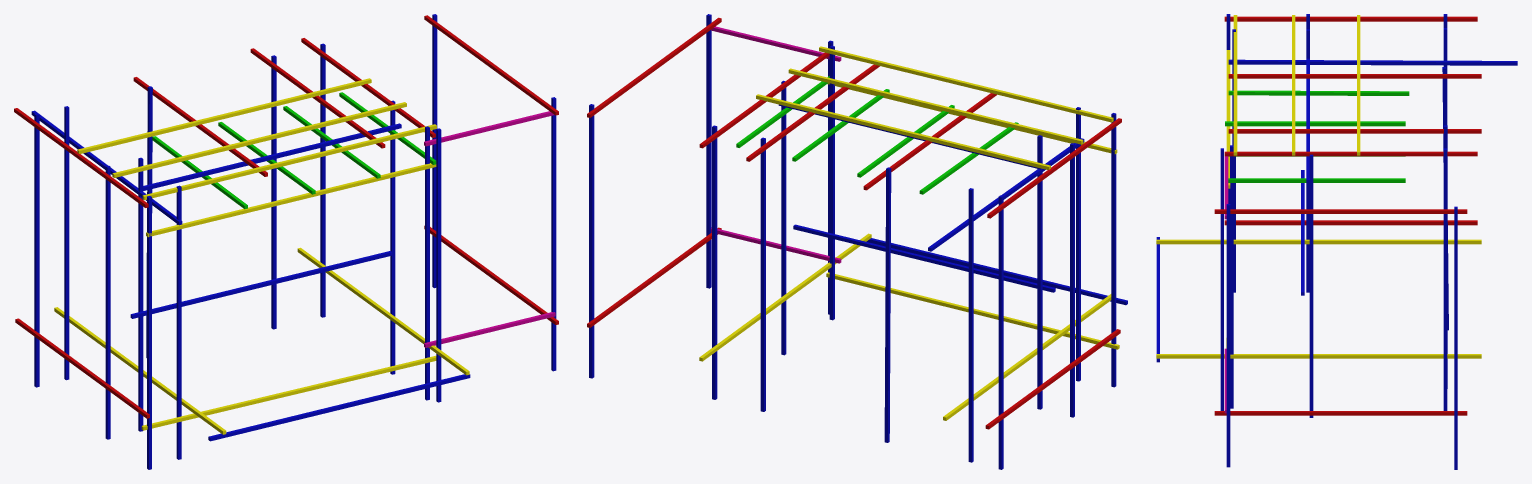
File: saved.obj
3 renders of one model, left to right at view 1: azimuth 30°, elevation 25°; view 2: azimuth 150°, elevation 25°; view 3: azimuth 270°, elevation 25°, orthographic. The views are drawn at different scales.
Visible parts, largest first — view 1: 立方体.050_立方体.096, 立方体.060_立方体.105, 立方体.051_立方体.097, 立方体.053_立方体.098, 立方体.054_立方体.099, 立方体.036_立方体.067, 立方体.037_立方体.068, 立方体.044_立方体.075, 立方体.043_立方体.074, 立方体.040_立方体.071, 立方体.023_立方体.053, 立方体.048_立方体.079 (+25 smaller); view 2: 立方体.050_立方体.096, 立方体.051_立方体.097, 立方体.060_立方体.105, 立方体.044_立方体.075, 立方体.035_立方体.066, 立方体.061_立方体.106, 立方体.047_立方体.078, 立方体.037_立方体.068, 立方体.046_立方体.077, 立方体.023_立方体.053, 立方体.034_立方体.065, 立方体.024_立方体.054 (+24 smaller); view 3: 立方体.049_立方体.095, 立方体.052_立方体.084, 立方体.019_立方体.047, 立方体.022_立方体.051, 立方体.059_立方体.104, 立方体.020_立方体.049, 立方体.023_立方体.053, 立方体.046_立方体.077, 立方体.026_立方体.059, 立方体.021_立方体.050, 立方体.064_立方体.109, 立方体.062_立方体.107 (+17 smaller).
Boxes of the visible parts, <box> form: 立方体.050_立方体.096: <box>112,102,406,177</box>; 立方体.060_立方体.105: <box>77,78,371,153</box>; 立方体.051_立方体.097: <box>142,124,436,200</box>; 立方体.053_立方体.098: <box>141,355,436,430</box>; 立方体.054_立方体.099: <box>146,163,436,237</box>; 立方体.036_立方体.067: <box>436,128,441,402</box>; 立方体.037_立方体.068: <box>34,113,39,387</box>; 立方体.044_立方体.075: <box>64,106,69,380</box>; 立方体.043_立方体.074: <box>105,165,110,439</box>; 立方体.040_立方体.071: <box>176,185,181,459</box>; 立方体.023_立方体.053: <box>551,97,556,371</box>; 立方体.048_立方体.079: <box>208,374,470,441</box>; 立方体.050_立方体.096: <box>788,68,1083,144</box>; 立方体.051_立方体.097: <box>819,46,1113,122</box>; 立方体.060_立方体.105: <box>756,94,1050,169</box>; 立方体.044_立方体.075: <box>968,188,973,462</box>; 立方体.035_立方体.066: <box>760,137,765,411</box>; 立方体.061_立方体.106: <box>884,167,891,442</box>; 立方体.047_立方体.078: <box>589,104,594,378</box>; 立方体.037_立方体.068: <box>998,195,1003,469</box>; 立方体.046_立方体.077: <box>712,125,717,399</box>; 立方体.023_立方体.053: <box>706,14,711,288</box>; 立方体.034_立方体.065: <box>1111,113,1116,387</box>; 立方体.024_立方体.054: <box>1037,135,1042,409</box>; 立方体.049_立方体.095: <box>1156,239,1481,244</box>; 立方体.052_立方体.084: <box>1156,354,1481,358</box>; 立方体.019_立方体.047: <box>1228,59,1517,65</box>; 立方体.022_立方体.051: <box>1224,151,1477,156</box>; 立方体.059_立方体.104: <box>1224,16,1477,21</box>; 立方体.020_立方体.049: <box>1224,220,1477,225</box>; 立方体.023_立方体.053: <box>1226,204,1230,467</box>; 立方体.046_立方体.077: <box>1443,148,1447,410</box>; 立方体.026_立方体.059: <box>1309,154,1313,417</box>; 立方体.021_立方体.050: <box>1214,209,1467,213</box>; 立方体.064_立方体.109: <box>1214,411,1467,415</box>; 立方体.062_立方体.107: <box>1228,74,1481,78</box>.
Bounding box in the file's own units: 12.68 × 8.18 × 10.
